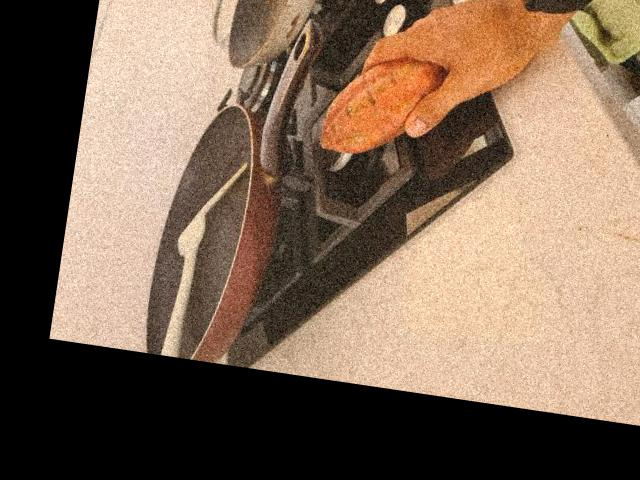sweet_potato: (317, 48, 454, 171)
